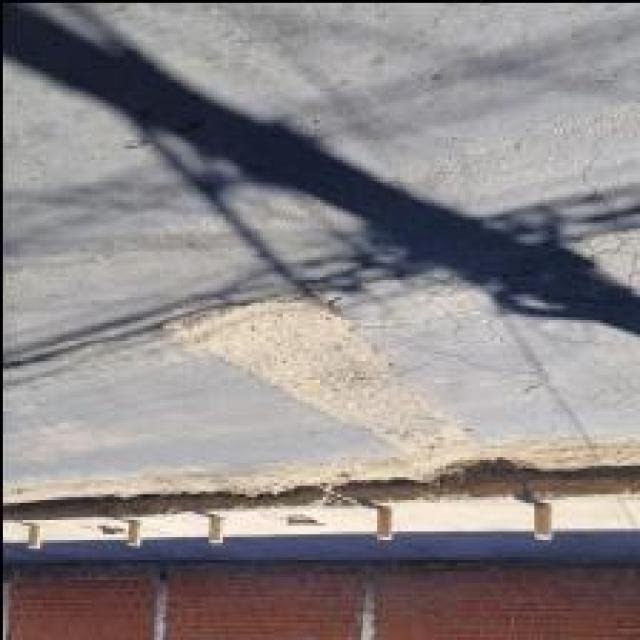BACHE: (168, 299, 465, 456)
